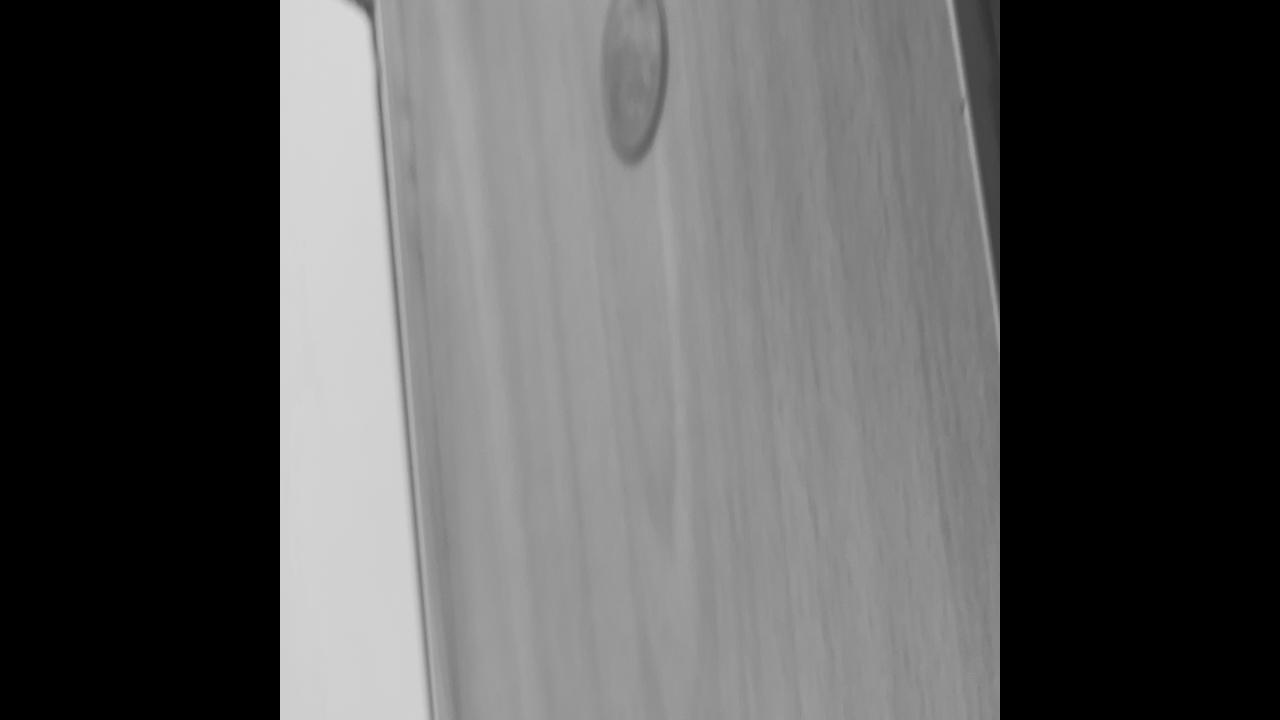coin: (598, 0, 668, 165)
